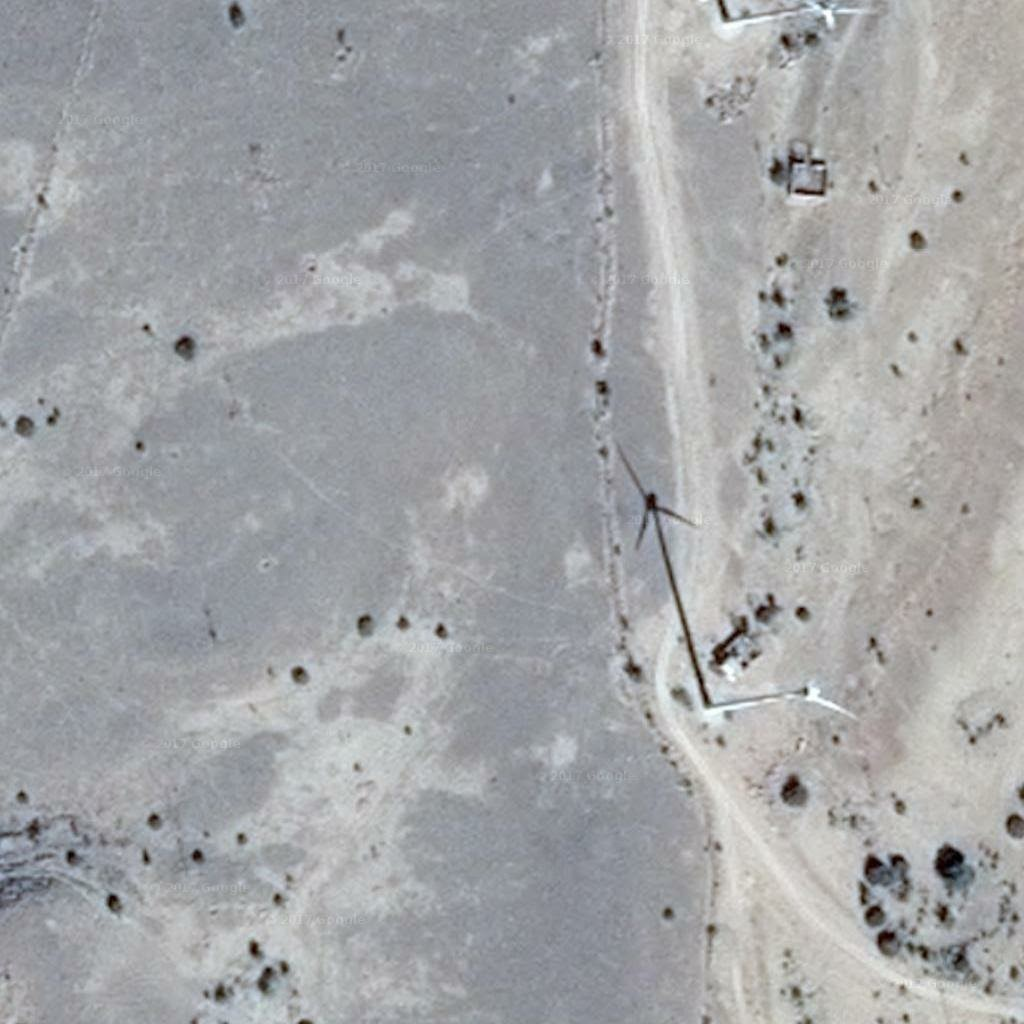Windmill: (609, 443, 730, 709)
